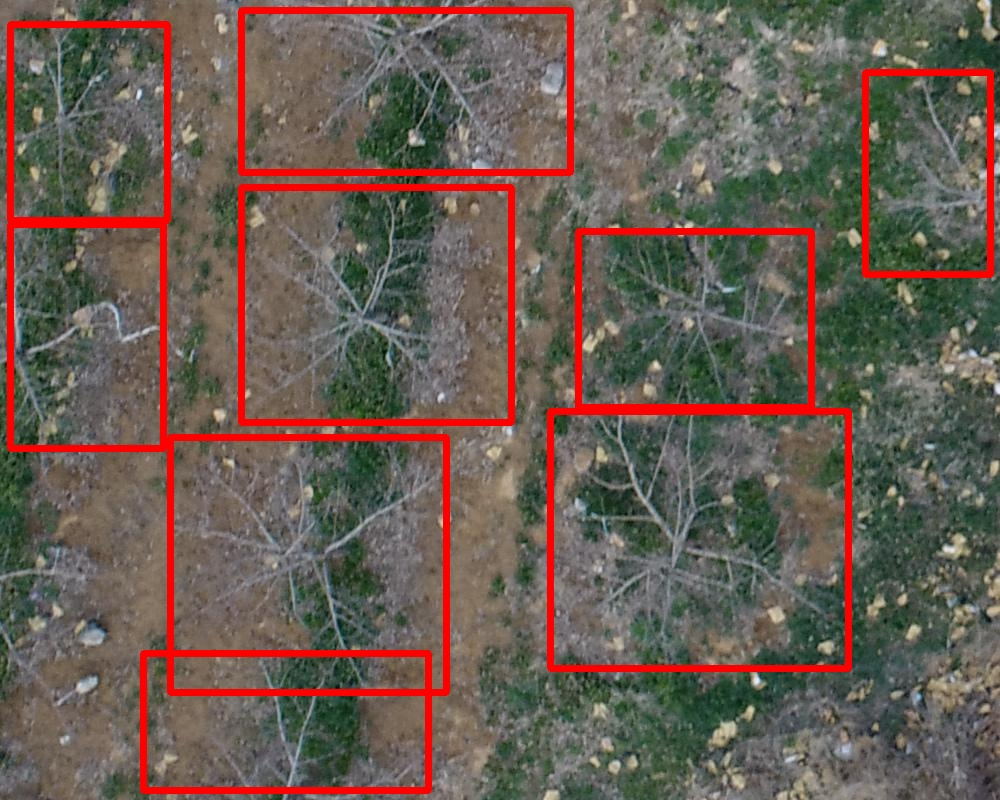apple: (550, 411, 848, 668), (170, 437, 446, 692), (241, 187, 511, 422), (241, 10, 570, 172), (578, 231, 811, 407), (143, 653, 428, 790), (10, 224, 163, 448), (10, 24, 167, 220), (865, 72, 990, 274)
